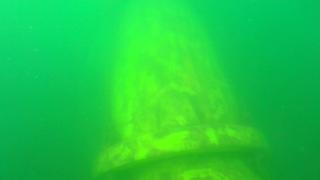pipe: (92, 1, 269, 179)
